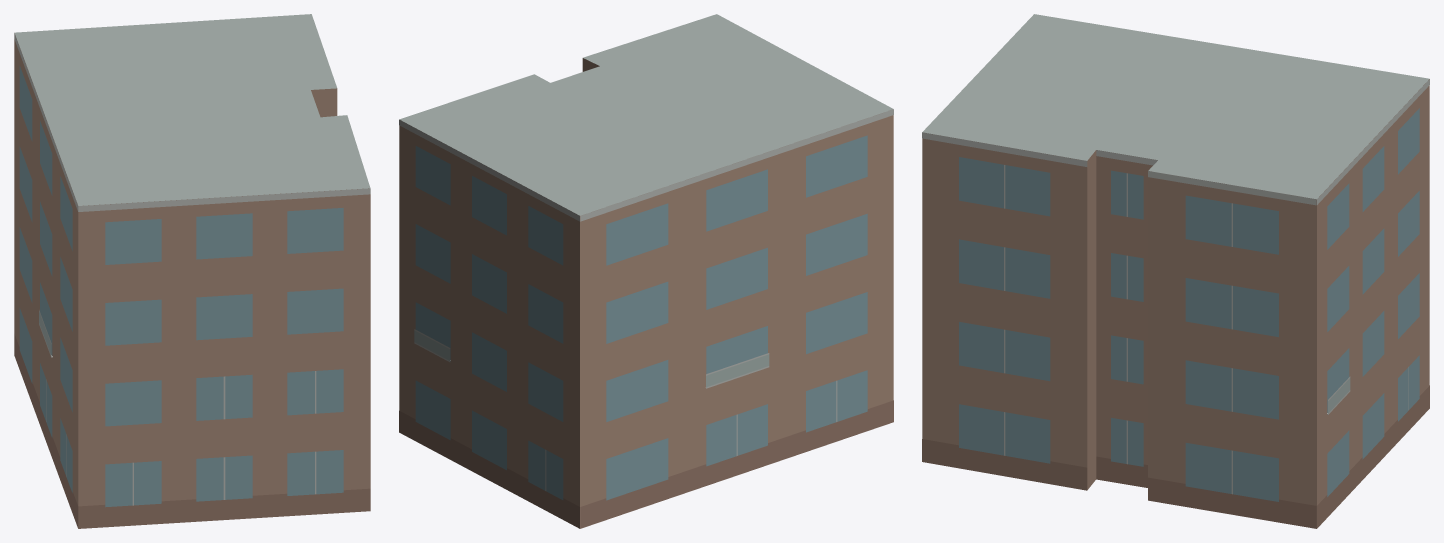
Rendered from survey-upis-32649173.glb.
The picture shows the model from 3 angles, left to right: view 1: azimuth 30°, elevation 25°; view 2: azimuth 150°, elevation 25°; view 3: azimuth 270°, elevation 25°; orthographic projection. The views are drawn at different scales.
Visible parts, largest first — view 1: survey-upis-32649173.tmp; view 2: survey-upis-32649173.tmp; view 3: survey-upis-32649173.tmp.
Boxes of the visible parts, x1,y1,x2,y2 form: survey-upis-32649173.tmp: (14,14,370,528); survey-upis-32649173.tmp: (399,14,893,528); survey-upis-32649173.tmp: (922,14,1429,528).
Size of the model in its own units: 15.62 by 12.95 by 18.08.
